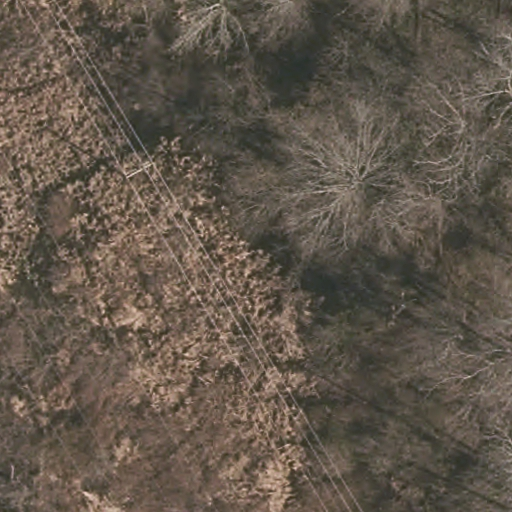DT: (110, 152, 160, 186)
